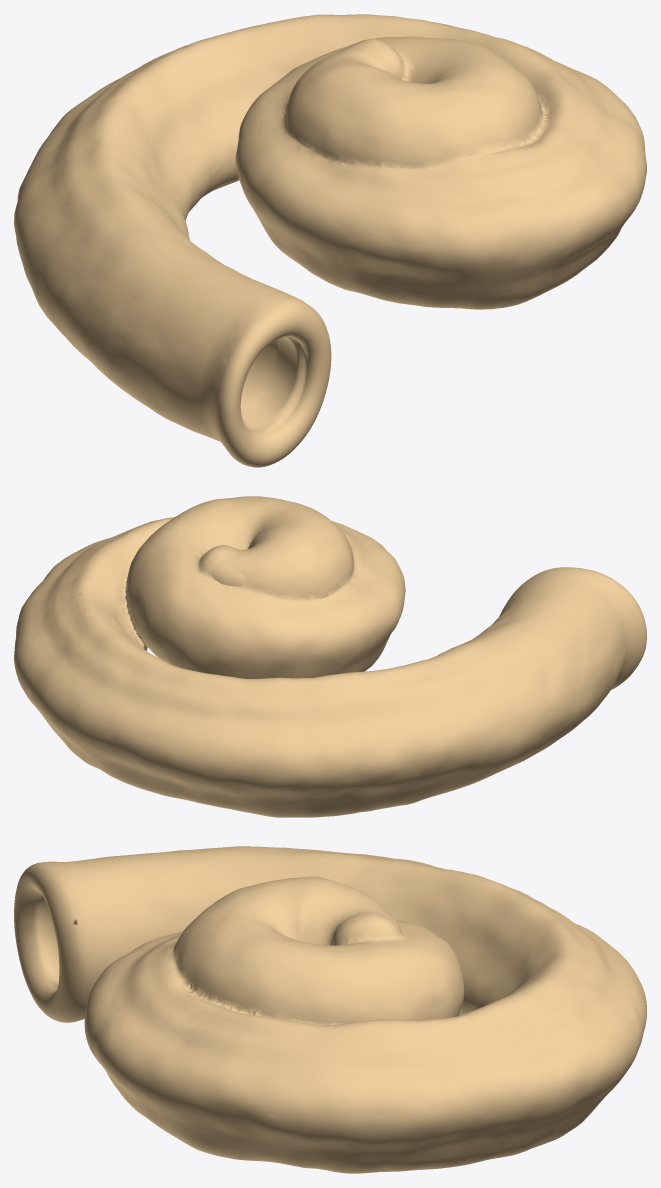
File: blue_whale_cochlea.glb
3 views of the same model, one above another, from view 1: azimuth 30°, elevation 25°; view 2: azimuth 150°, elevation 25°; view 3: azimuth 270°, elevation 25° (orthographic). The views are drawn at different scales.
Parts seen in each view (by area): view 1: Balaenoptera_musculus_Cochlea_Hollow; view 2: Balaenoptera_musculus_Cochlea_Hollow; view 3: Balaenoptera_musculus_Cochlea_Hollow.
Part boxes in pixels (x1,y1,x2,y2): Balaenoptera_musculus_Cochlea_Hollow: (14,14,646,467); Balaenoptera_musculus_Cochlea_Hollow: (14,496,646,817); Balaenoptera_musculus_Cochlea_Hollow: (14,846,646,1173).
Size of the model in its own units: 27.85 by 11.14 by 27.39.
